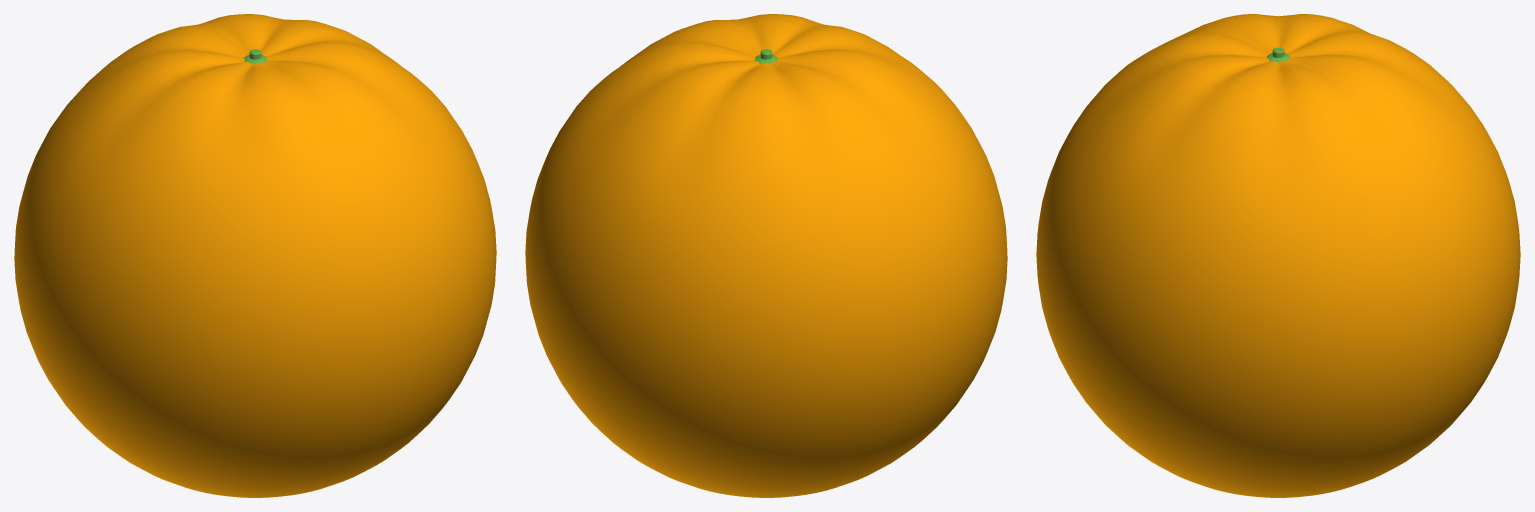
The model's file is Orange.fbx.
3 views of the same model, side by side, from view 1: azimuth 30°, elevation 25°; view 2: azimuth 150°, elevation 25°; view 3: azimuth 270°, elevation 25° (orthographic).
Visible parts, largest first — view 1: Sphere; view 2: Sphere; view 3: Sphere.
Part boxes in pixels (x1,y1,x2,y2): Sphere: (14, 14, 496, 497); Sphere: (525, 14, 1007, 497); Sphere: (1036, 14, 1520, 497).
Bounding box in the file's own units: 1.97 × 1.92 × 1.97.
